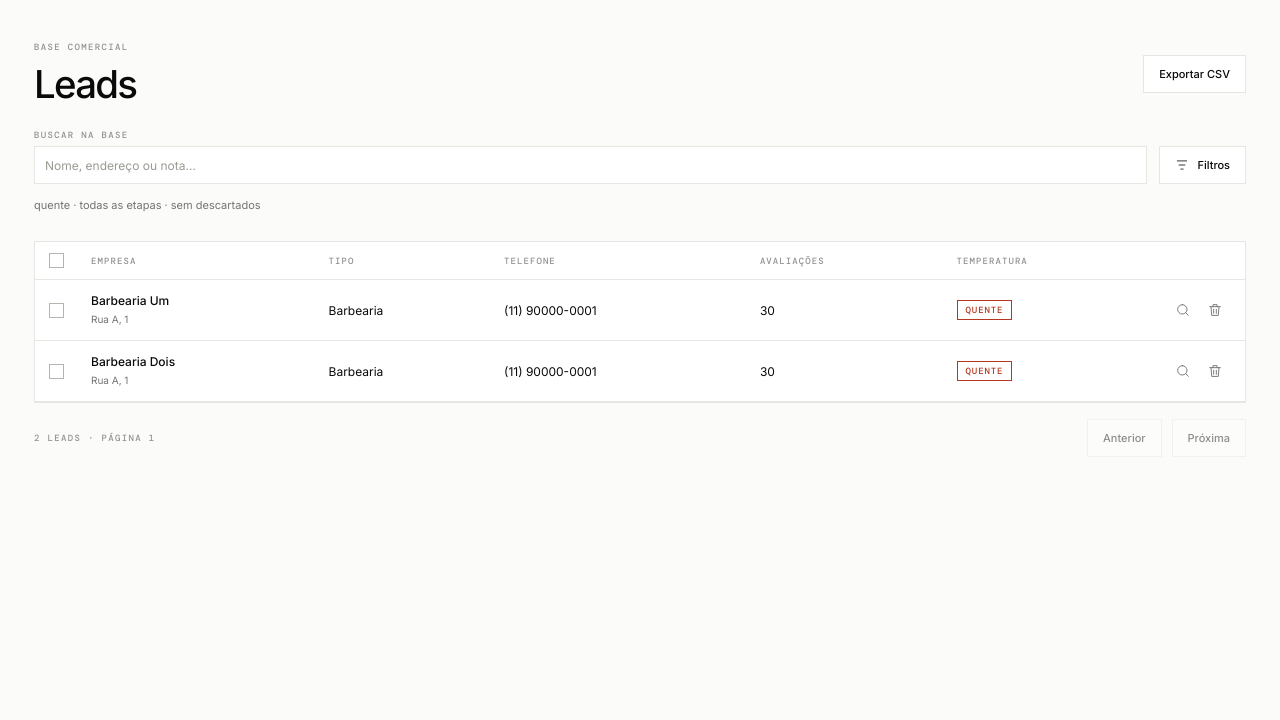
Test: LeadsView — exclusão de leads › marcar um lead abre a barra com a contagem
This screenshot has width=1280, height=720.
Expected: the text "Barbearia Um" is shown, 91,293 -> 169,308
Click the checkbox named "Selecionar Barbearia Um" at (56, 311), box 49,303 -> 64,318
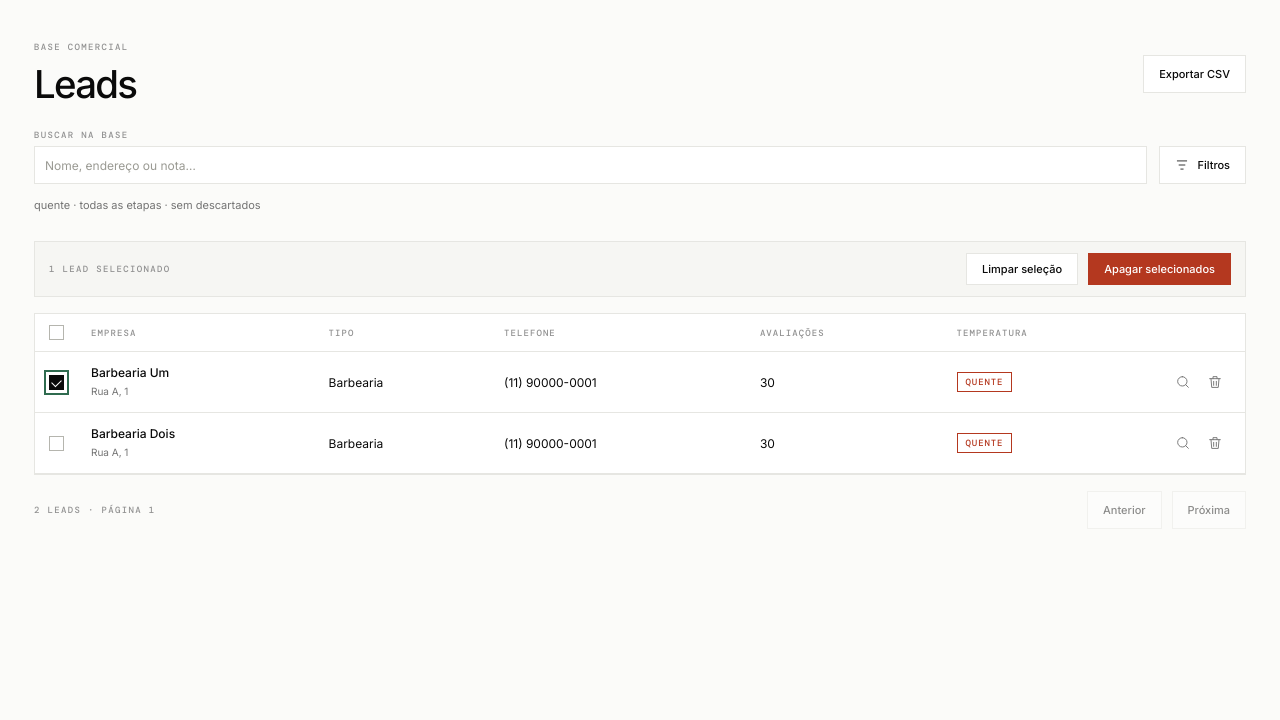
Expected: the text "1 lead selecionado" is shown, 49,265 -> 170,274
